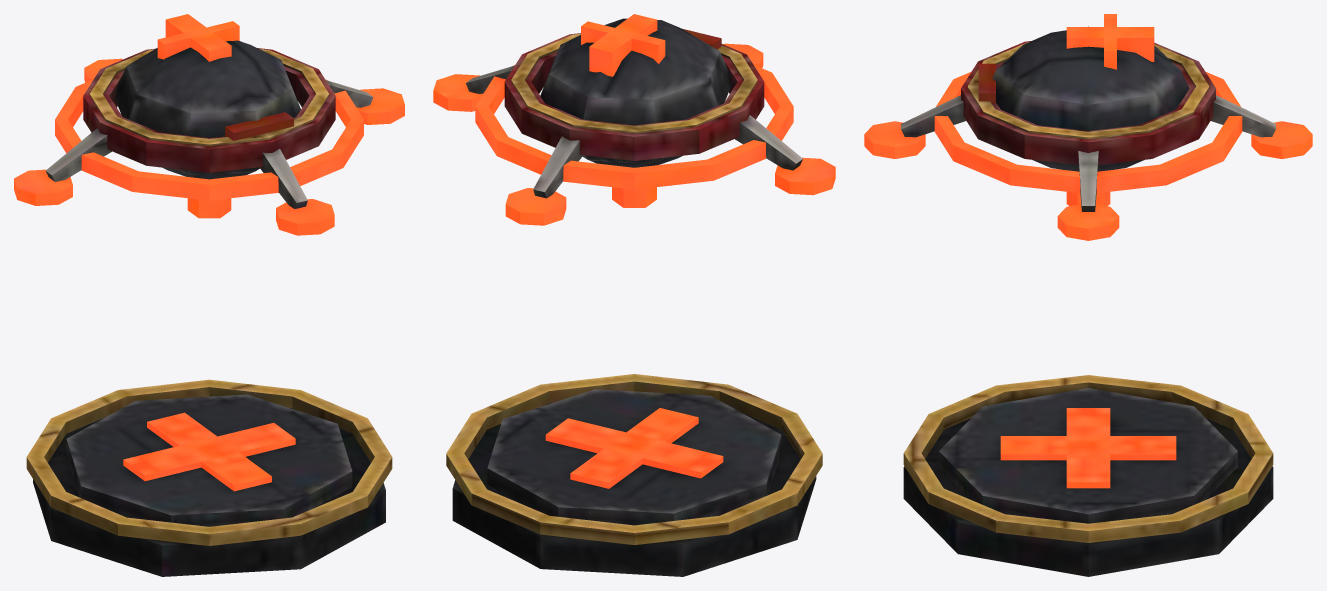
The model's file is u_medic3_e.glb.
3 renders of one model, left to right at view 1: azimuth 30°, elevation 25°; view 2: azimuth 150°, elevation 25°; view 3: azimuth 270°, elevation 25°, orthographic. The views are drawn at different scales.
Visible parts, largest first — view 1: u_medic3_e; view 2: u_medic3_e; view 3: u_medic3_e.
Part boxes in pixels (bbox=[...]): u_medic3_e: bbox=[14, 14, 404, 576]; u_medic3_e: bbox=[433, 14, 835, 576]; u_medic3_e: bbox=[864, 14, 1312, 576].
Bounding box in the file's own units: 1.18 × 1.36 × 1.18.
1 material, 1 textured.
